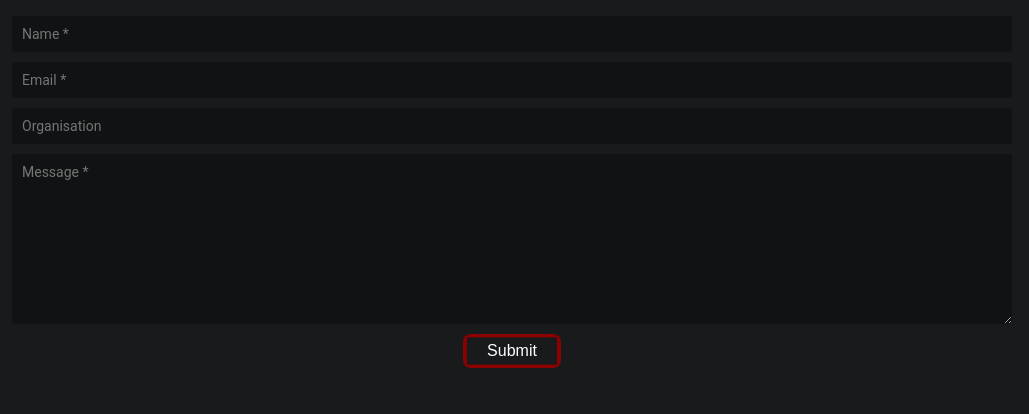
Test case: ContactForm › renders success message for valid input
The image size is (1029, 414).
Type "John Doe" into the field with placeholder "Name *". click: (512, 34)
box: [12, 16, 1012, 52]
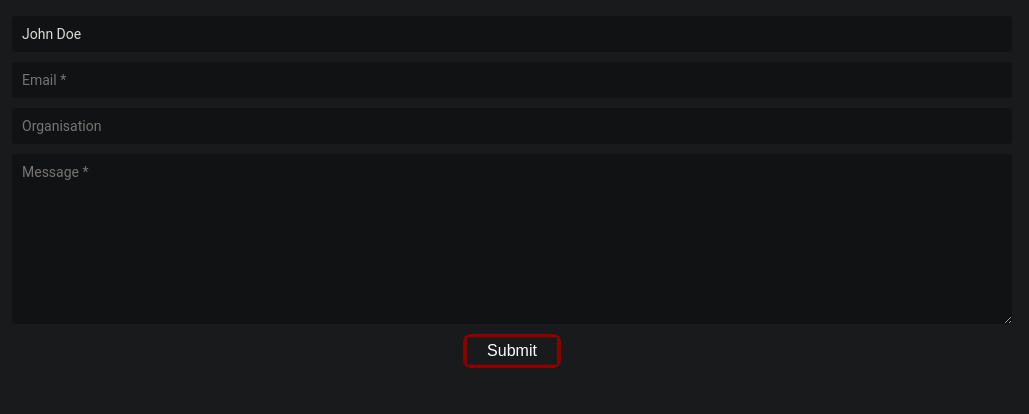
Type "john@example.com" into the field with placeholder "Email *". click: (512, 80)
box: [12, 62, 1012, 98]
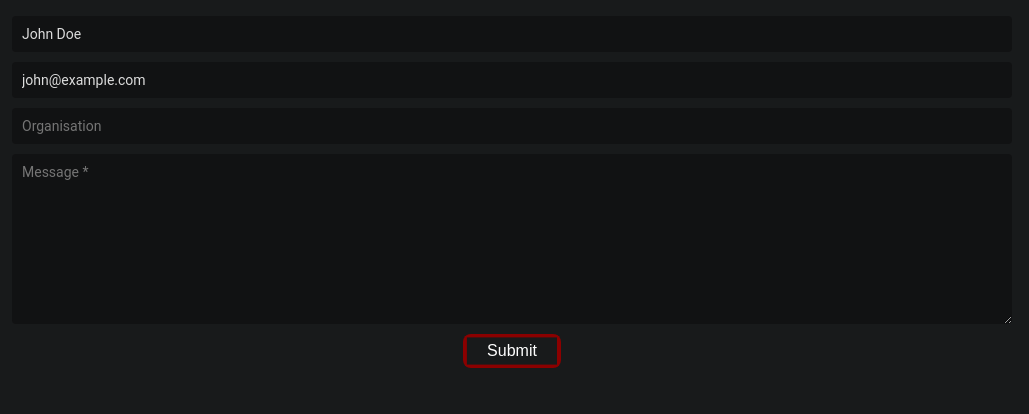
Type "Hello!" into the text box with placeholder "Message *". click: (512, 239)
box: [12, 154, 1012, 324]
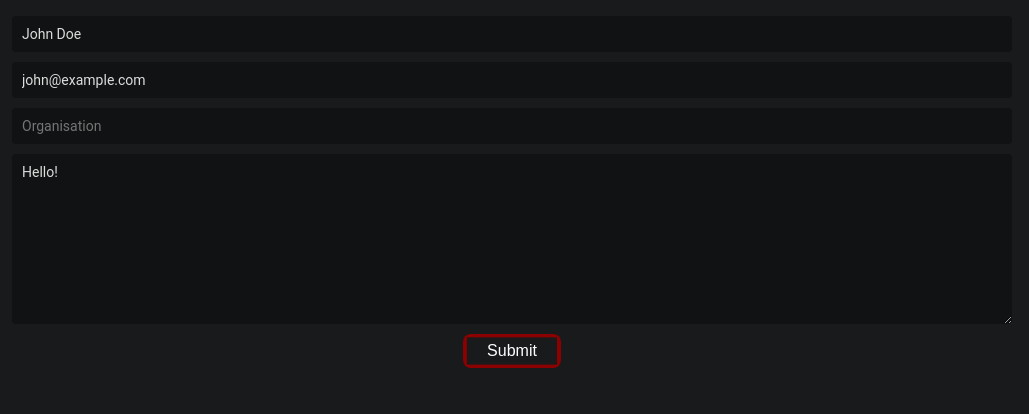
Submit the form
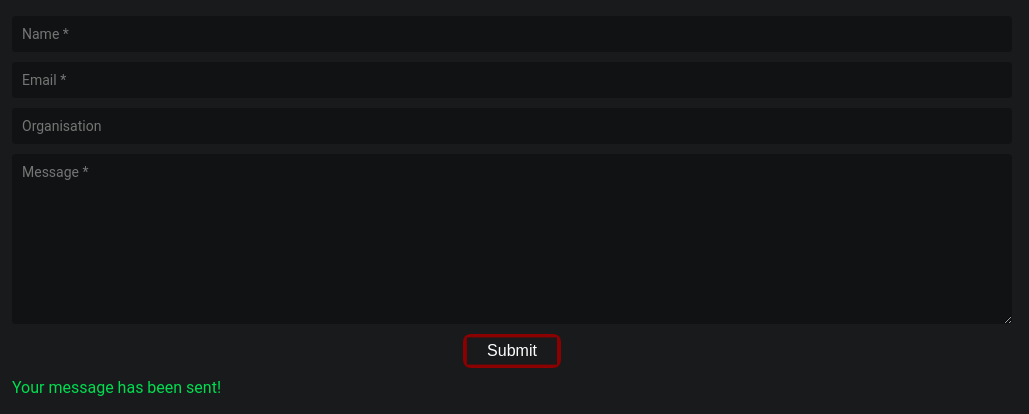
expect the text with class "status-message" reads "Your message has been sent!": met, box [12, 378, 221, 397]
